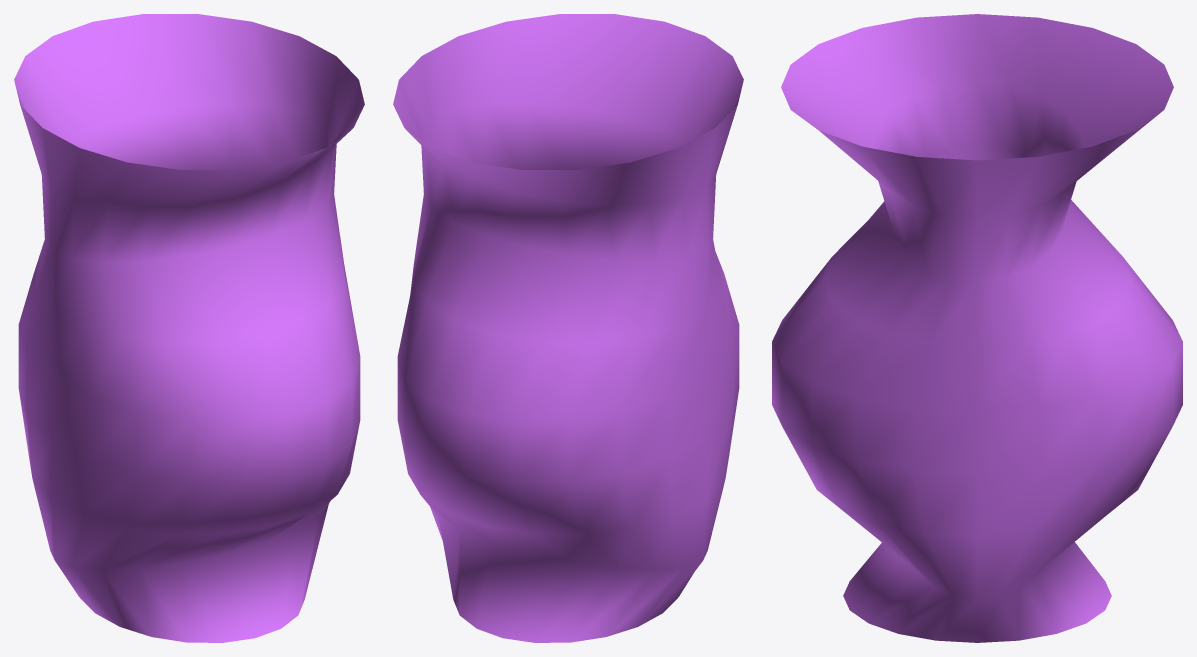
The model's file is vase.fbx.
3 views of the same model, side by side, from view 1: azimuth 30°, elevation 25°; view 2: azimuth 150°, elevation 25°; view 3: azimuth 270°, elevation 25° (orthographic). The views are drawn at different scales.
Visible parts, largest first — view 1: vase1:pCylinder1; view 2: vase1:pCylinder1; view 3: vase1:pCylinder1.
Part boxes in pixels (left/top/right/bottom): vase1:pCylinder1: left=14, top=14, right=364, bottom=642; vase1:pCylinder1: left=393, top=14, right=743, bottom=642; vase1:pCylinder1: left=772, top=14, right=1182, bottom=642.
Size of the model in its own units: 2 by 3.23 by 2.37.
